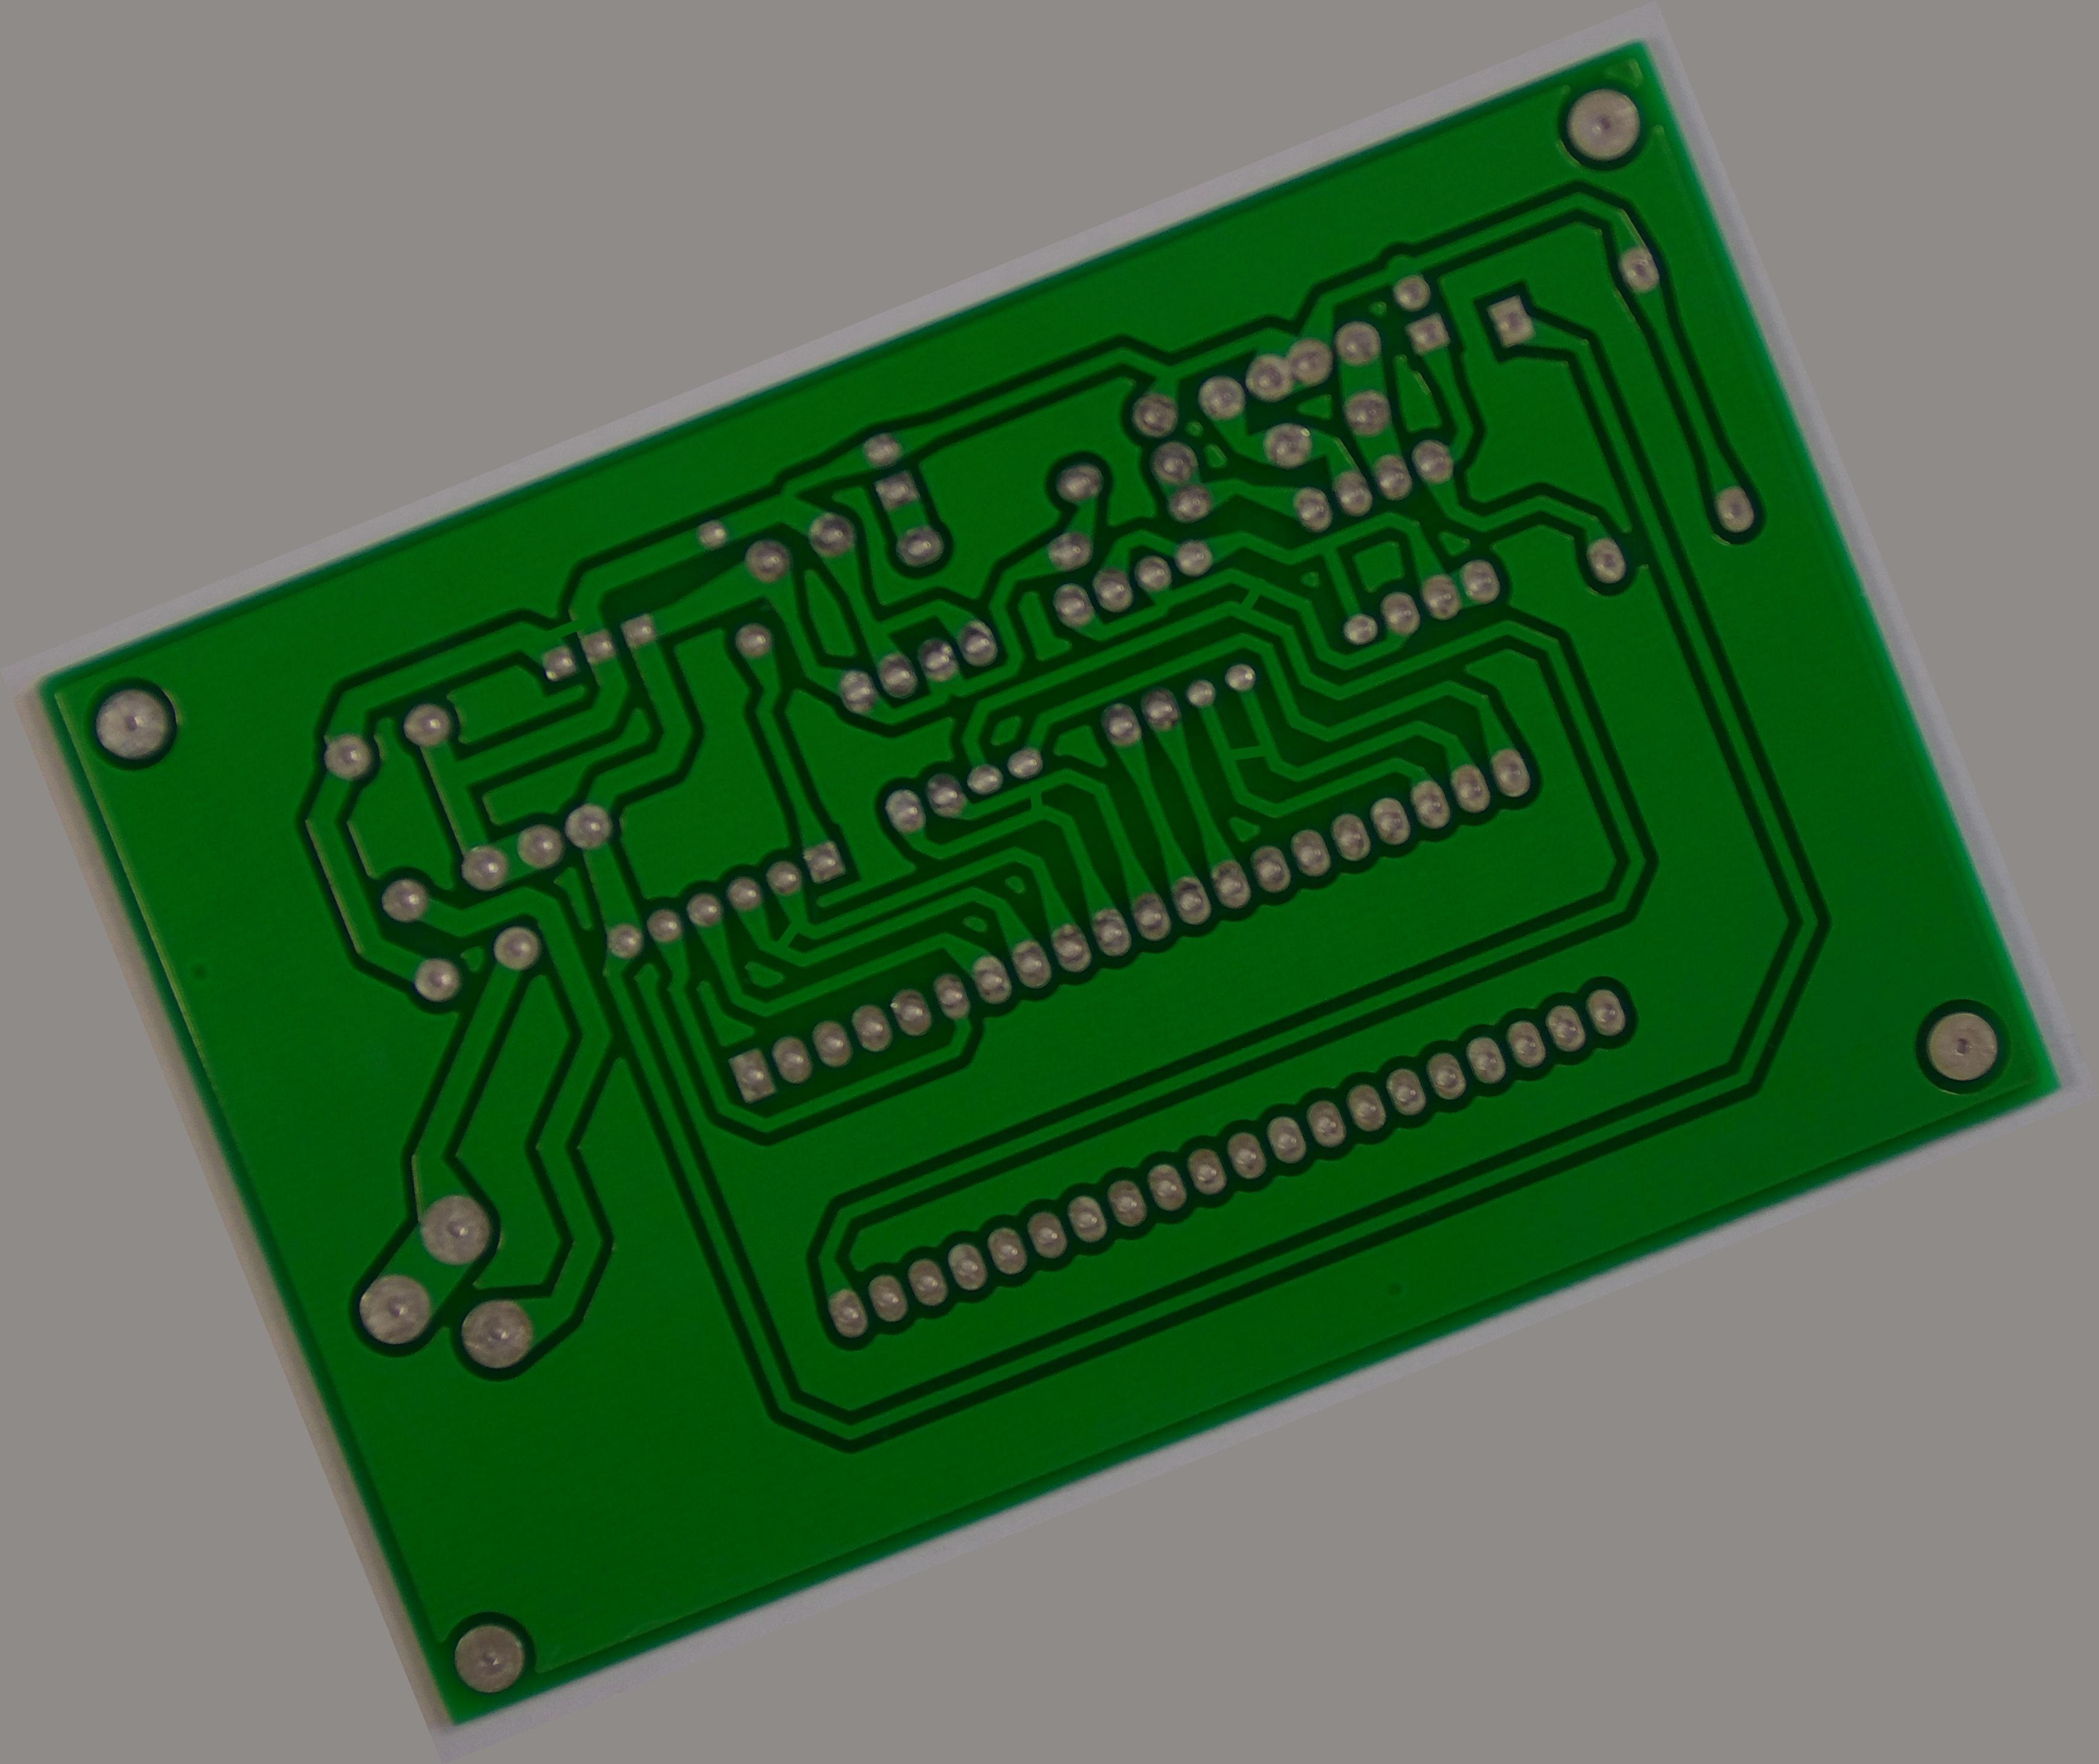short: (1204, 714, 1295, 796), (518, 588, 607, 670), (742, 898, 832, 976), (1210, 567, 1287, 635), (996, 768, 1070, 838)
